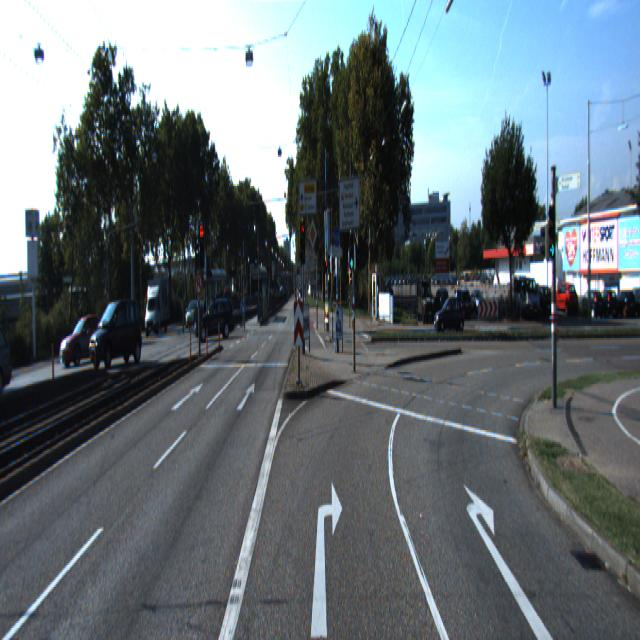Car: (89, 298, 143, 372), (59, 314, 112, 372), (193, 298, 237, 346), (0, 310, 19, 401), (432, 292, 466, 332)
DontCare: (379, 258, 639, 320), (185, 299, 197, 325)
Truck: (143, 278, 171, 336)
